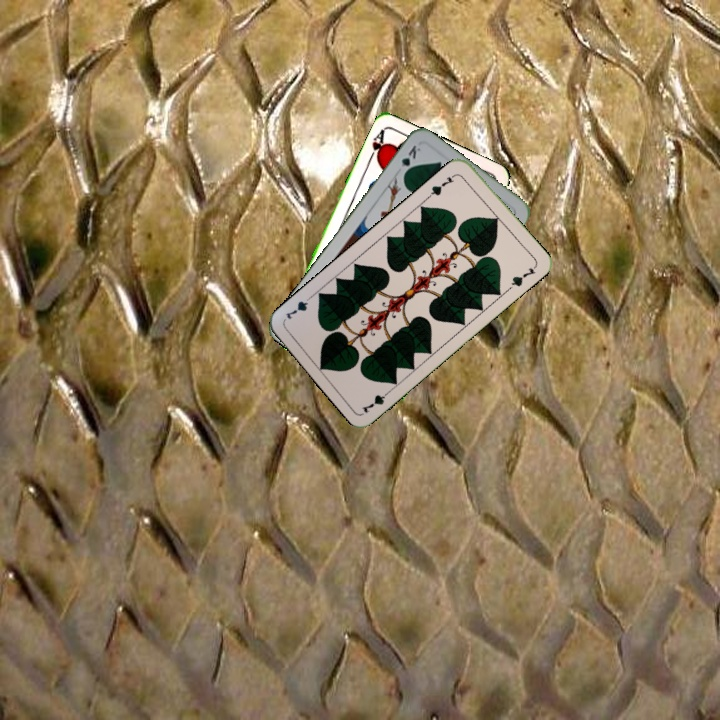G7: (358, 385, 395, 416), (425, 170, 459, 200)
GK: (396, 141, 423, 179)
HA: (365, 125, 389, 164)
